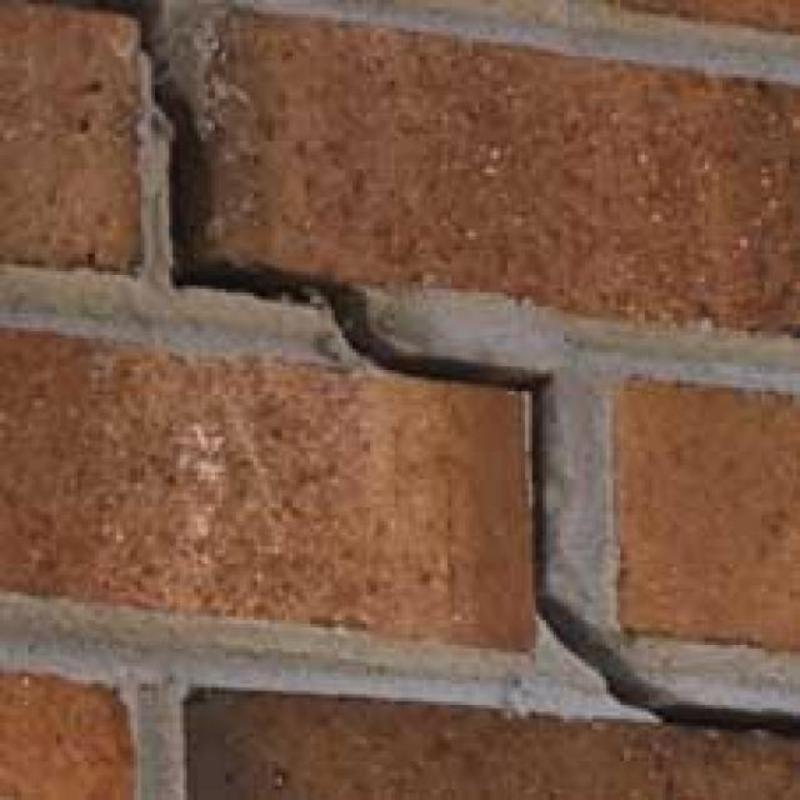crack: (56, 1, 799, 738)
